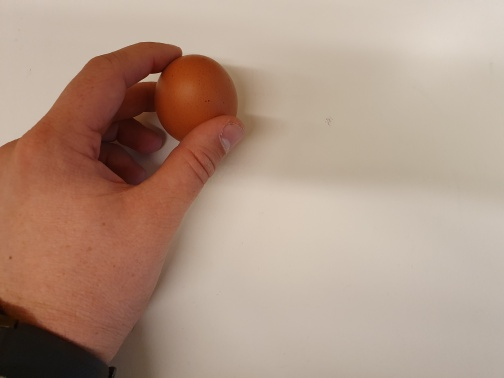egg: (155, 54, 239, 144)
